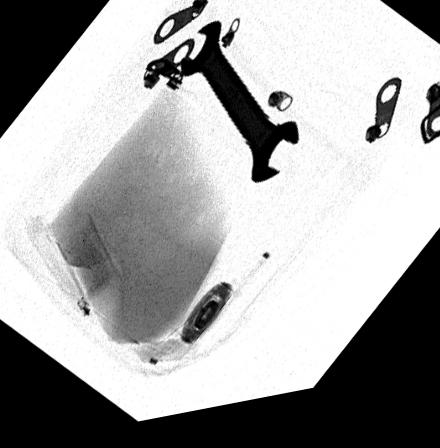Wrench: (178, 24, 300, 197)
